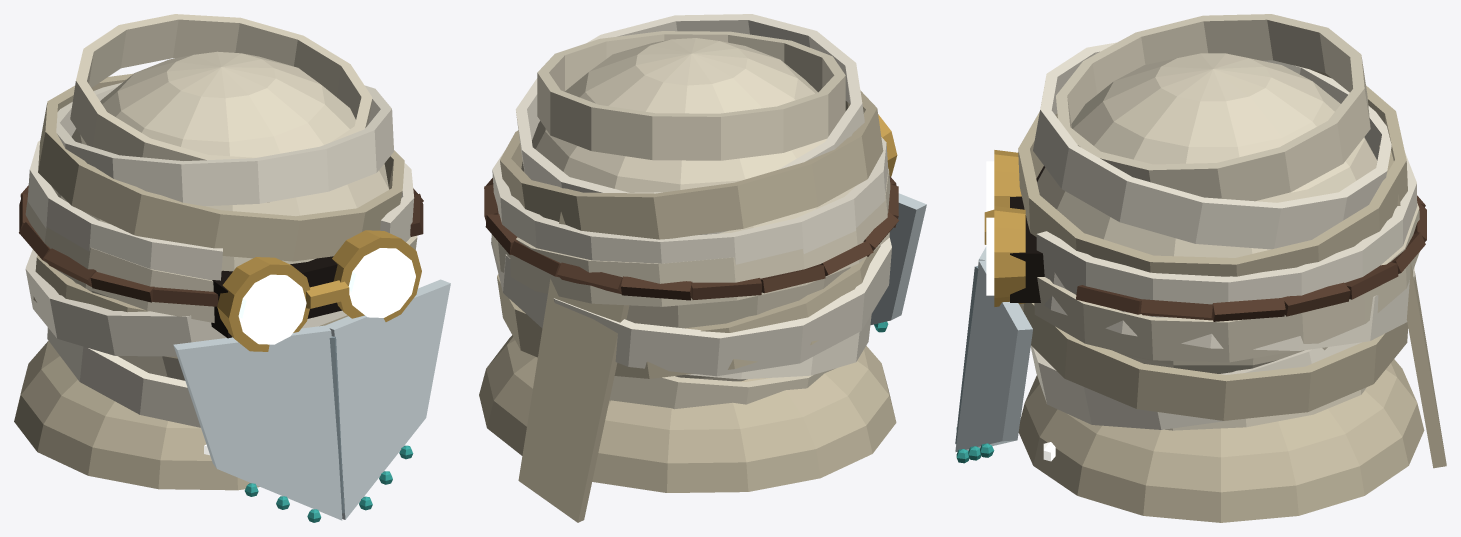
The model's file is duneskiff_wrap.glb.
The picture shows the model from 3 angles, left to right: view 1: azimuth 30°, elevation 25°; view 2: azimuth 150°, elevation 25°; view 3: azimuth 270°, elevation 25°; orthographic projection. The views are drawn at different scales.
Visible parts, largest first — view 1: duneskiff_wrap; view 2: duneskiff_wrap; view 3: duneskiff_wrap.
Part boxes in pixels (left/top/right/bottom): duneskiff_wrap: left=14, top=14, right=450, bottom=522; duneskiff_wrap: left=479, top=14, right=926, bottom=522; duneskiff_wrap: left=955, top=14, right=1446, bottom=522.
Bounding box in the file's own units: 1.12 × 1.12 × 1.26.
